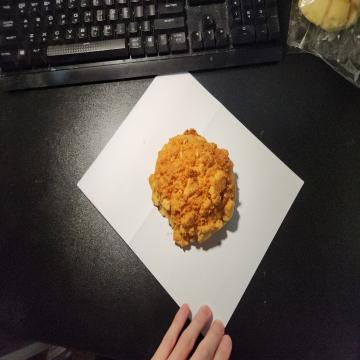soboru_bread: (148, 127, 237, 251)
